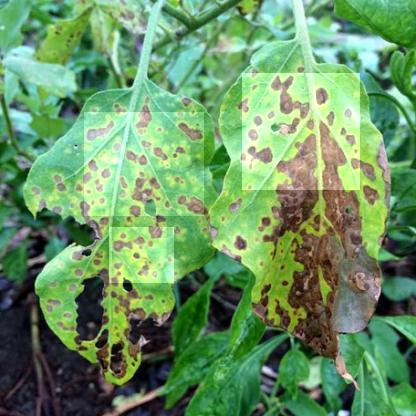black-spot: (242, 73, 360, 190), (84, 112, 204, 216), (109, 228, 174, 284)
